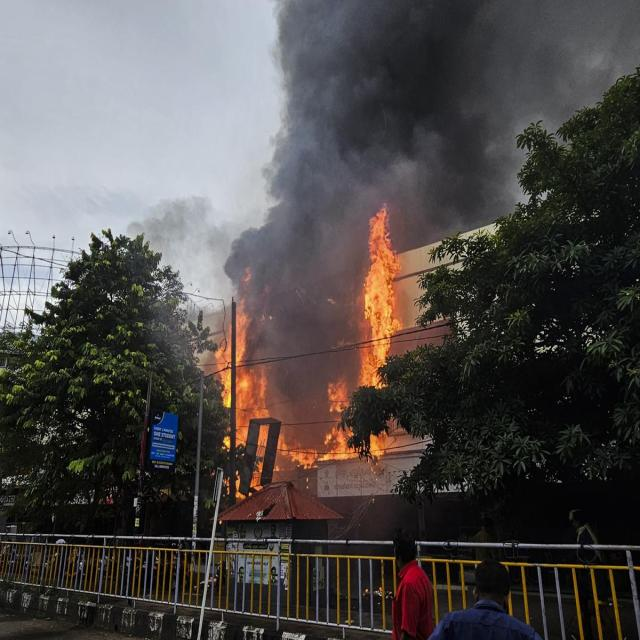fire: (216, 299, 251, 407), (277, 433, 317, 468), (318, 427, 359, 461)
